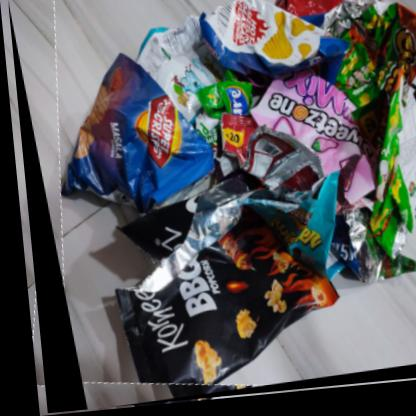Garbage: (9, 1, 416, 416)
